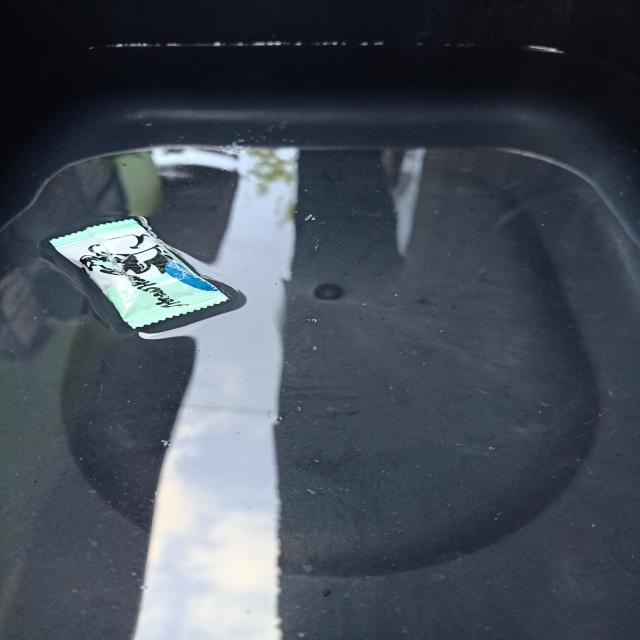Plastic Wrapper: (3, 165, 297, 335)
